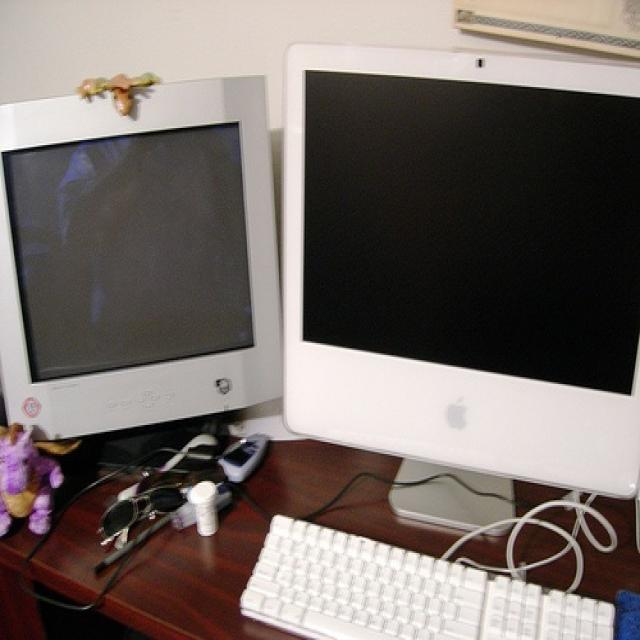tvmonitor: (282, 44, 638, 534), (0, 77, 284, 459)
